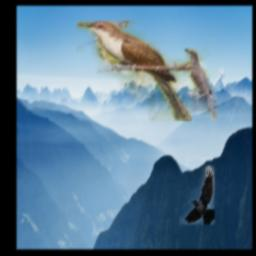Crow: (180, 166, 215, 225)
Cuckoo: (77, 22, 192, 122), (184, 49, 217, 121)
